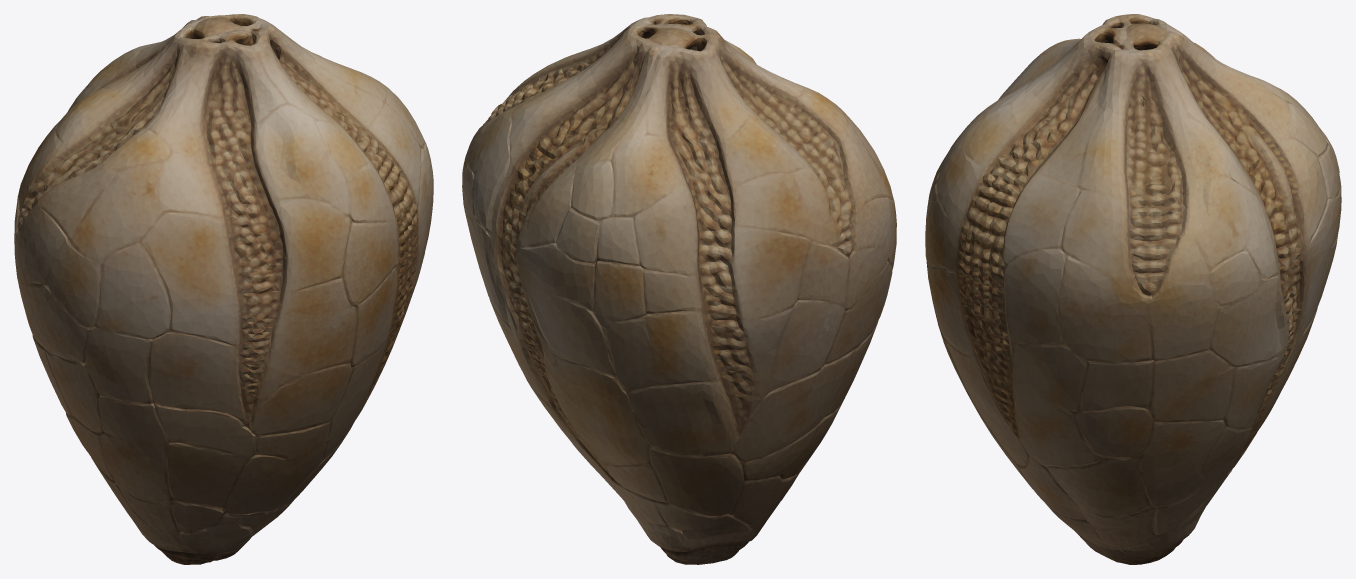
3 renders of one model, left to right at view 1: azimuth 30°, elevation 25°; view 2: azimuth 150°, elevation 25°; view 3: azimuth 270°, elevation 25°, orthographic. The views are drawn at different scales.
Parts seen in each view (by area): view 1: world; view 2: world; view 3: world.
Part boxes in pixels (<box>): world: <box>14,14,433,564</box>; world: <box>462,14,896,564</box>; world: <box>925,14,1341,564</box>.
Size of the model in its own units: 0.0273 by 0.035 by 0.0244.
1 material, 1 textured.
